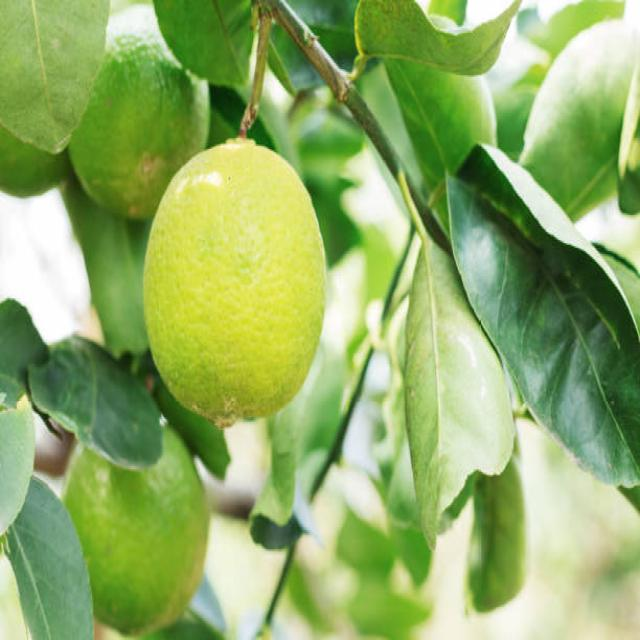Unripe: (145, 140, 328, 431)
